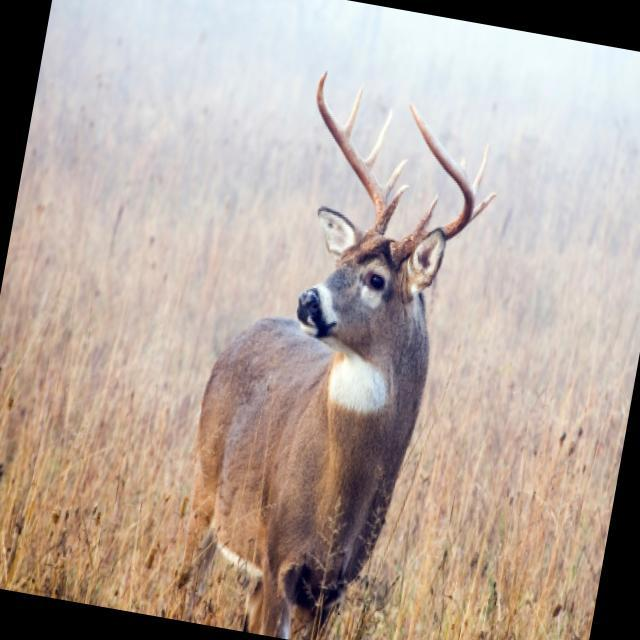L-G1: (415, 194, 438, 232)
R-G1: (383, 184, 409, 223)
R-G2: (382, 158, 407, 202)
R-G3: (365, 107, 393, 170)
R-G4: (344, 85, 363, 140)
